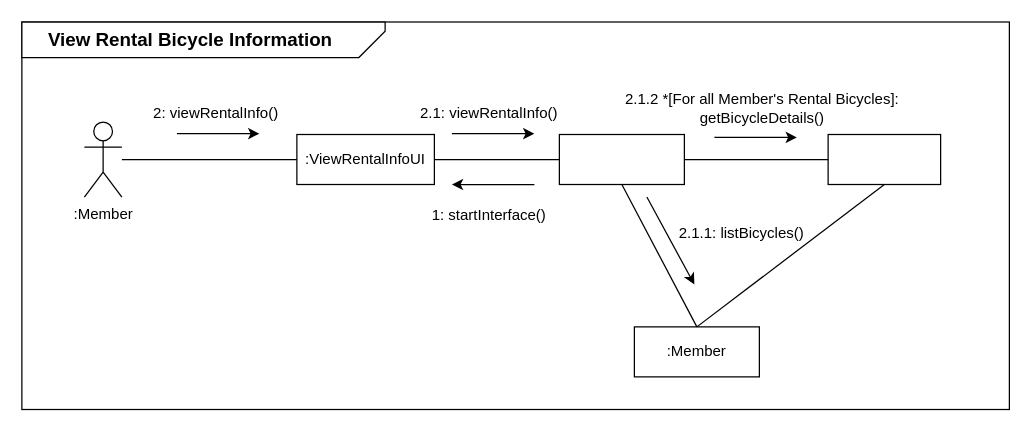
Image size: 1031x433. Some labels were removed from this diagram. The shapes that lost their labels are listed below. From the top down, each one's centre as x and y in pixels, then its label:
At pixel 621 159: ":ViewRentalInfo".
At pixel 884 159: ":Bicycle".
